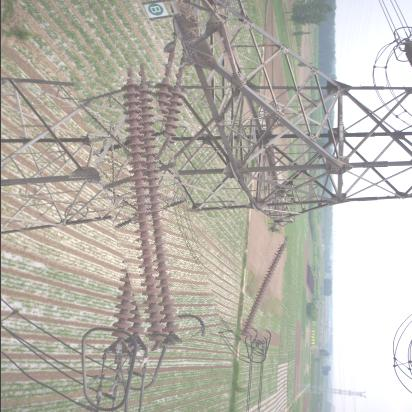insulator: (92, 66, 205, 350), (247, 233, 285, 342)
